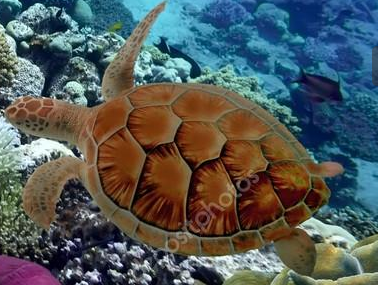fishLarge: (288, 63, 344, 105)
turtle: (4, 1, 343, 277)
